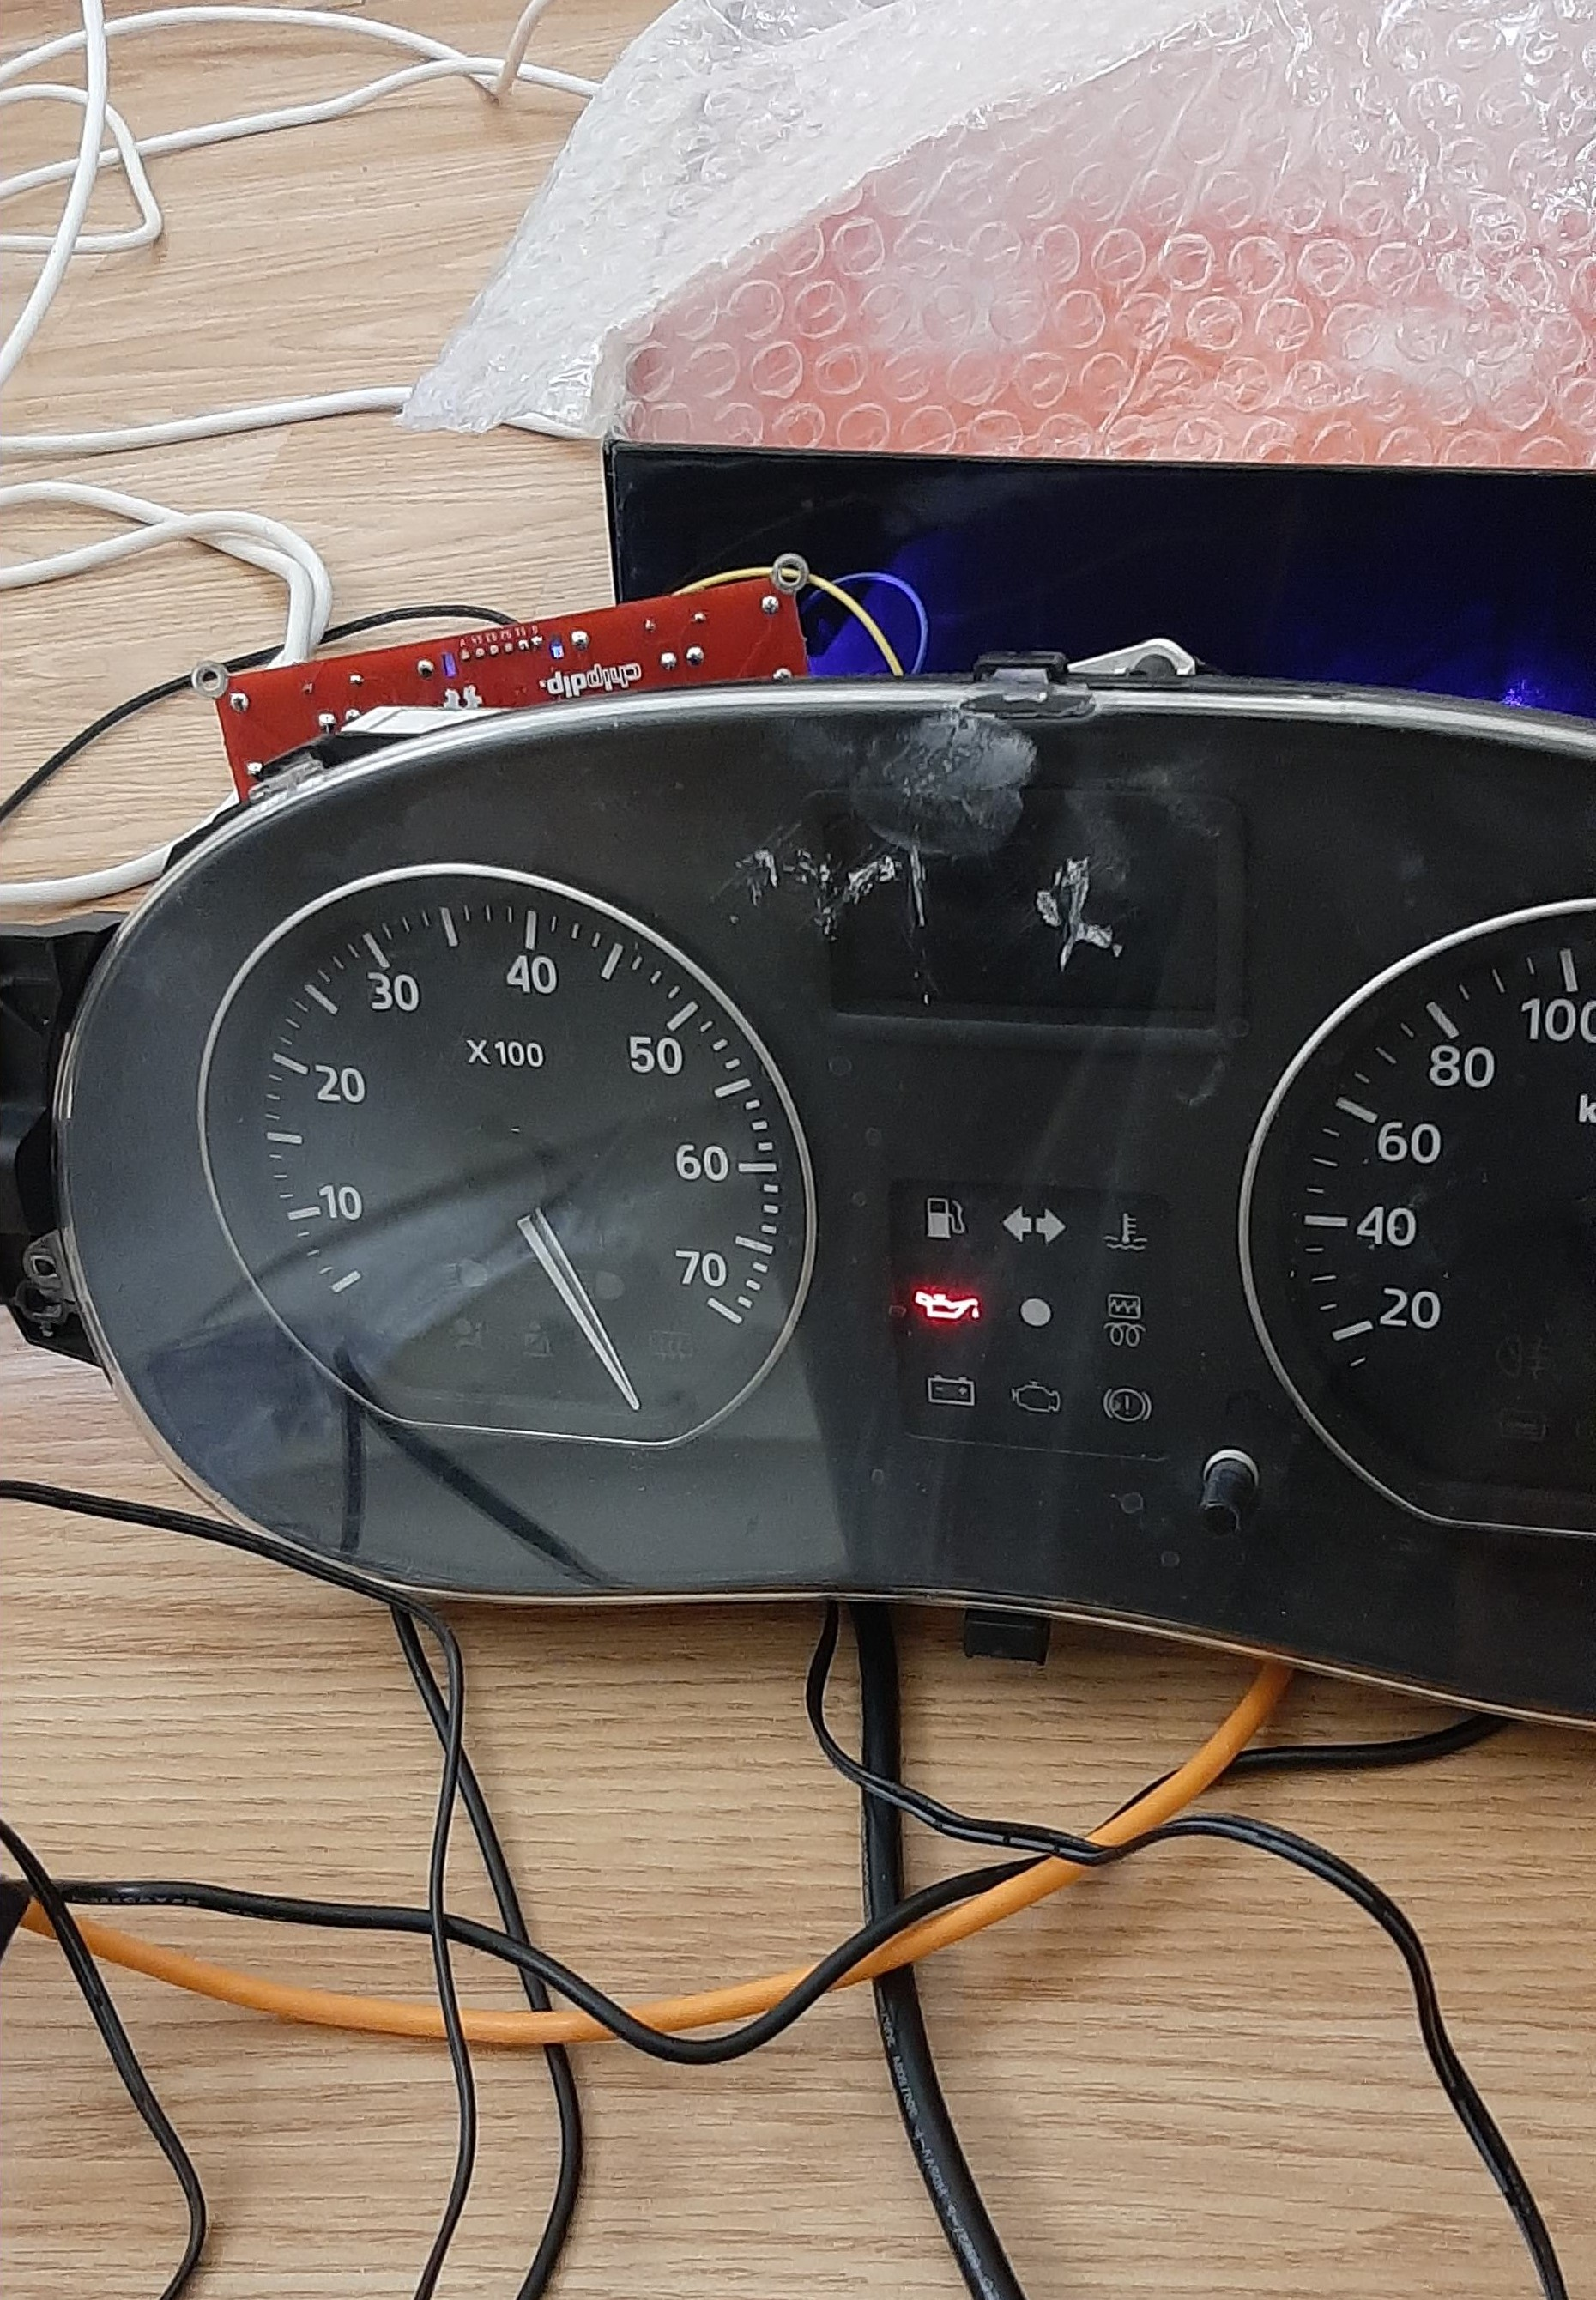oil22: (911, 1288, 984, 1323)
